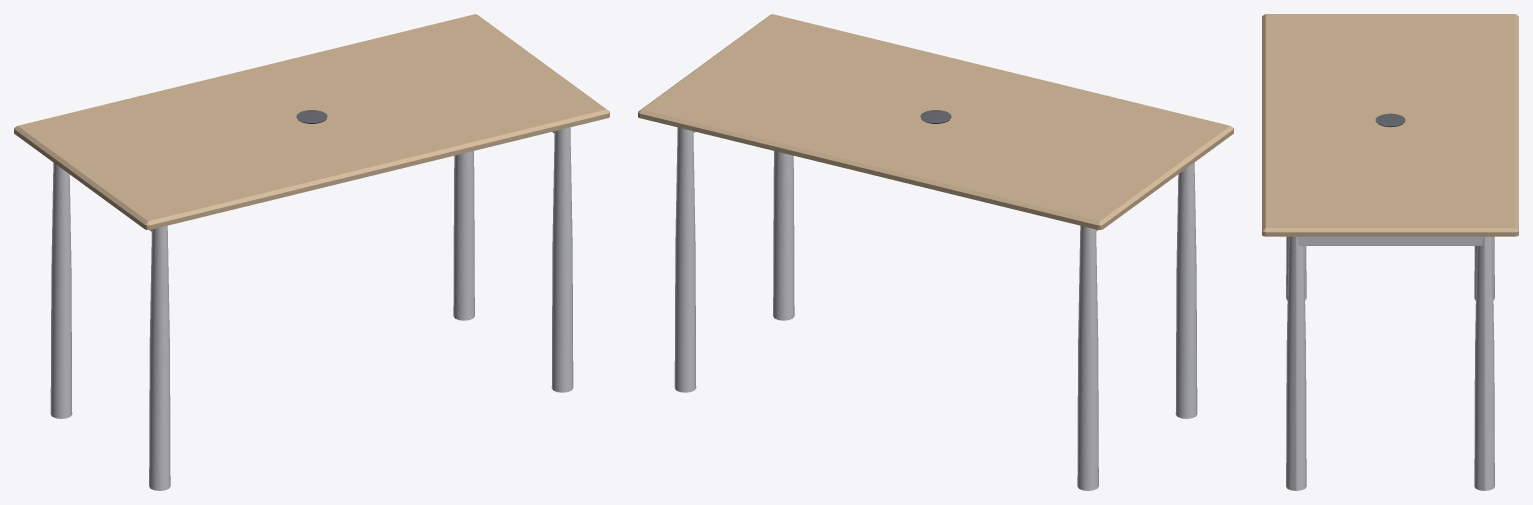
File: downtown-office-interiors-standing-meeting-table-2d8667ee__16972.glb
3 views of the same model, side by side, from view 1: azimuth 30°, elevation 25°; view 2: azimuth 150°, elevation 25°; view 3: azimuth 270°, elevation 25° (orthographic). The views are drawn at different scales.
Visible parts, largest first — view 1: standing-meeting-table; view 2: standing-meeting-table; view 3: standing-meeting-table.
Part boxes in pixels (x1,y1,x2,y2): standing-meeting-table: (14,14,609,490); standing-meeting-table: (638,14,1233,490); standing-meeting-table: (1262,14,1518,490).
Bounding box in the file's own units: 1.8 × 1.05 × 0.9001.
